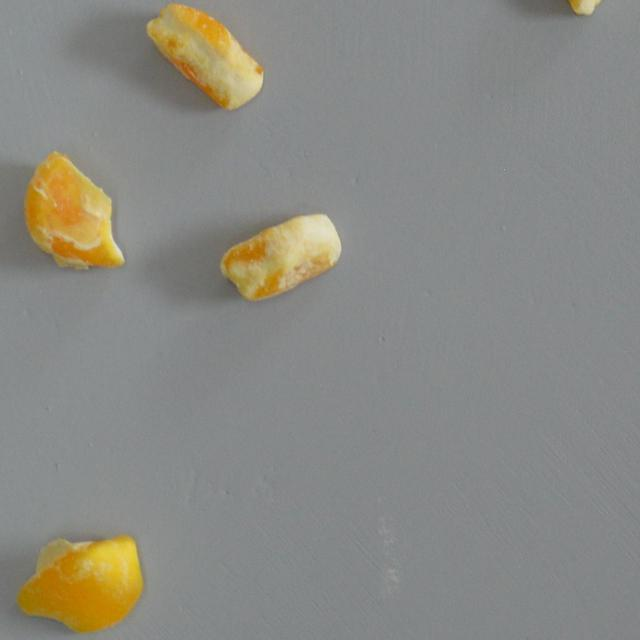dañado: (8, 526, 149, 638), (18, 144, 131, 275), (140, 0, 268, 114), (214, 206, 347, 306), (537, 0, 634, 18)
